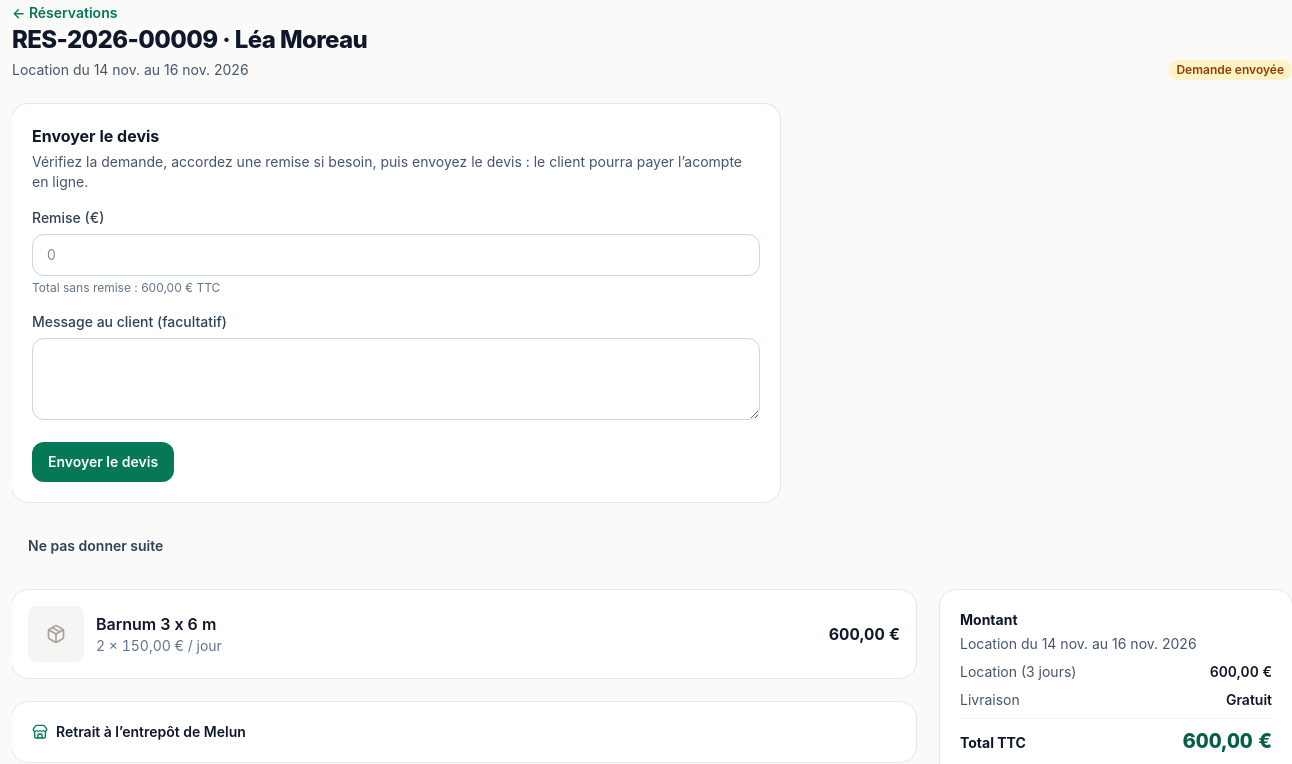
Traitement des demandes par l’équipe (US-09, US-12) › le commercial envoie le devis avec une remise et un message
Type "50" into the field labelled "Remise (€)" at x=396, y=255, box left=32, top=234, right=760, bottom=276
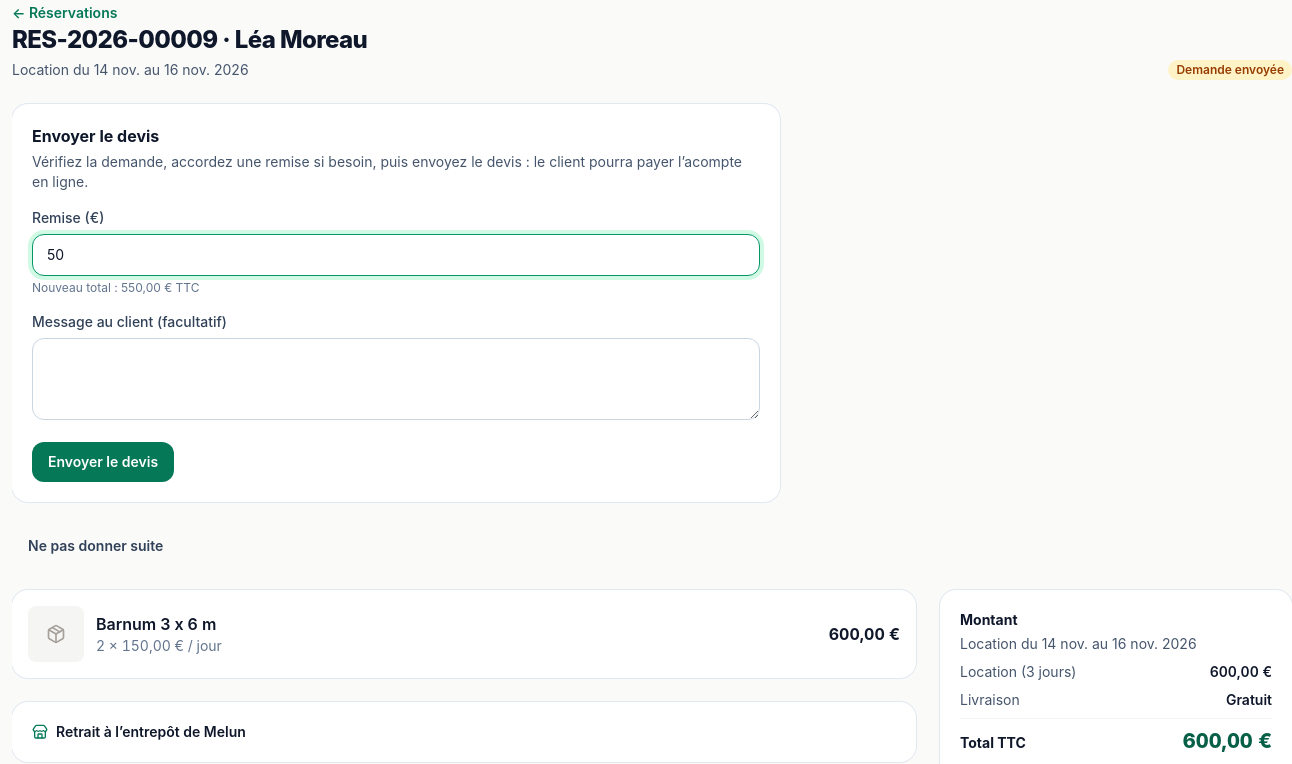
Now the text "Nouveau total : 550,00 € TTC" is shown, box left=32, top=280, right=200, bottom=295
Type "Montage possible le vendredi" into the text box labelled "Message au client (facultatif)" at x=396, y=379, box left=32, top=338, right=760, bottom=420
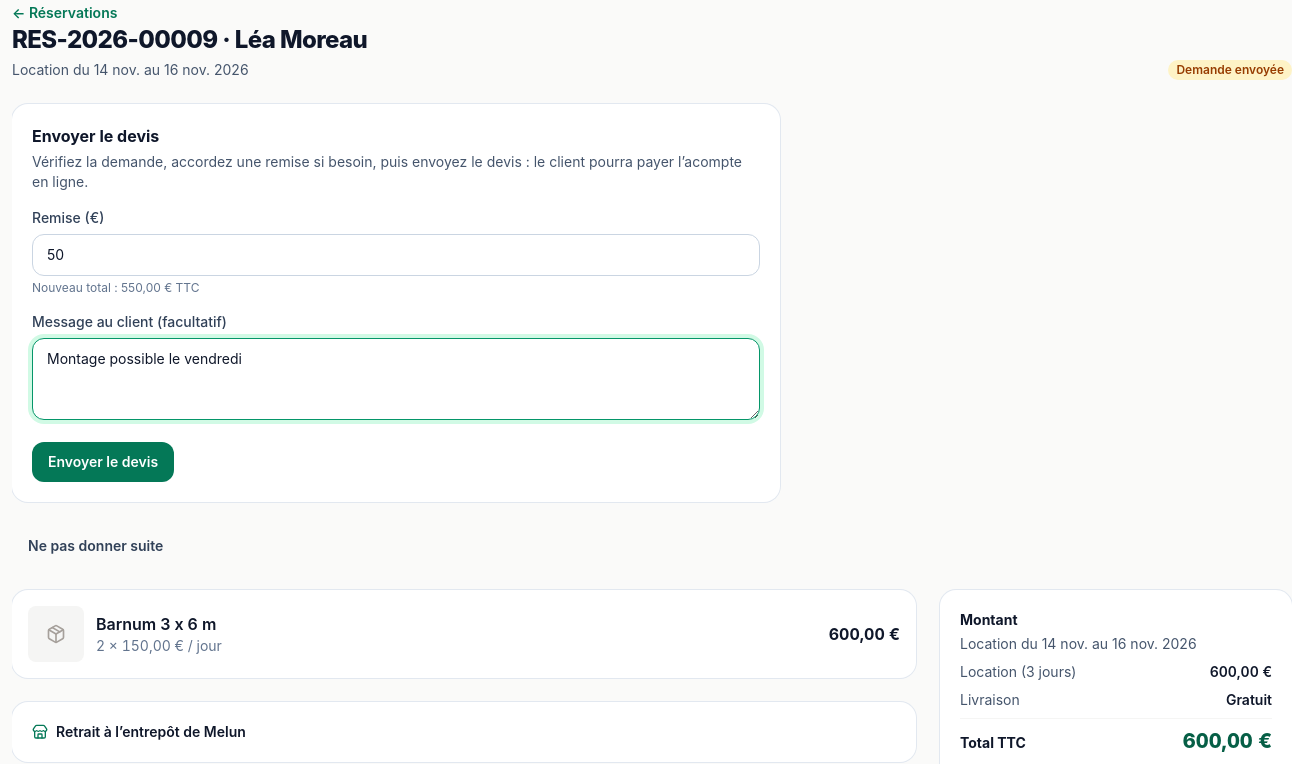
Click the button "Envoyer le devis" at x=103, y=462, box left=32, top=442, right=174, bottom=482
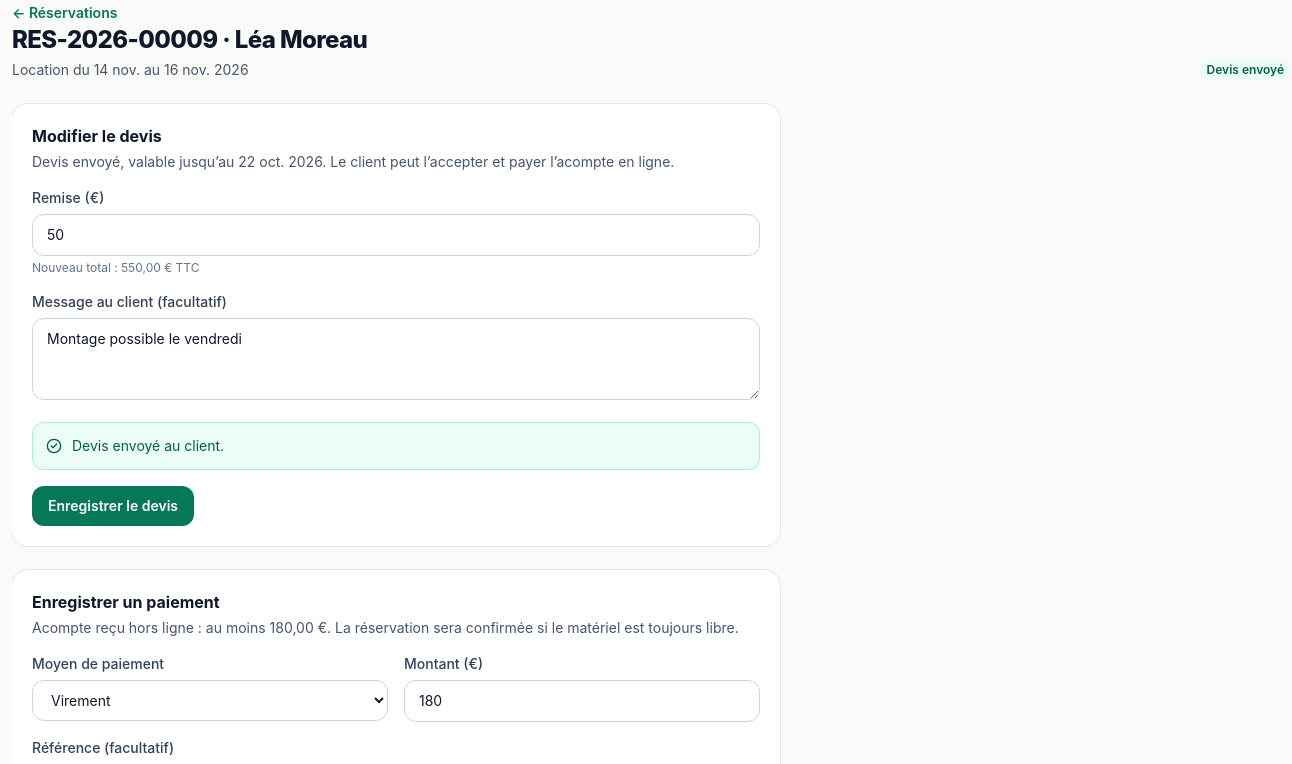
Now the text "Devis envoyé au client." is shown, box left=72, top=436, right=224, bottom=456
